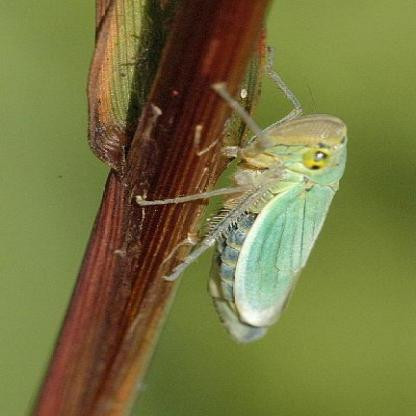Green-Leafhopper: (130, 60, 354, 344)
